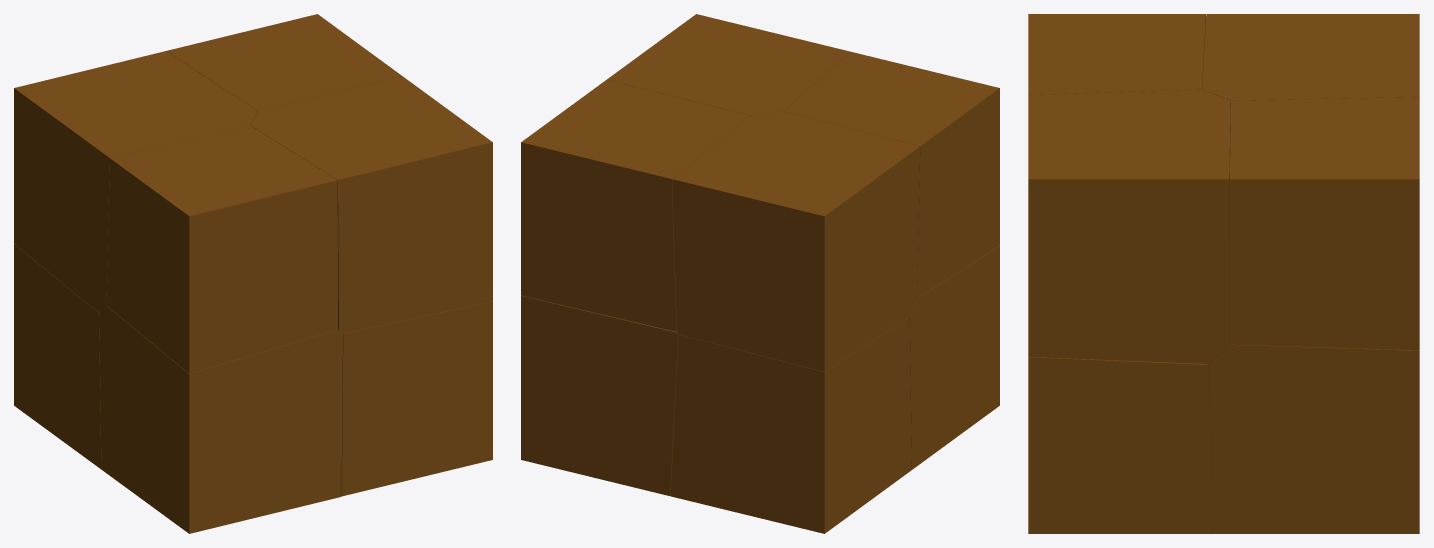
File: PrototypeCrate_pieces.glb
3 views of the same model, side by side, from view 1: azimuth 30°, elevation 25°; view 2: azimuth 150°, elevation 25°; view 3: azimuth 270°, elevation 25° (orthographic). The views are drawn at different scales.
Parts seen in each view (by area): view 1: crate_cell.001, crate_cell, crate_cell.005, crate_cell.003, crate_cell.004, crate_cell.002, crate_cell.007; view 2: crate_cell.003, crate_cell.002, crate_cell.007, crate_cell.006, crate_cell.001, crate_cell, crate_cell.005; view 3: crate_cell.005, crate_cell.007, crate_cell.006, crate_cell.004, crate_cell.003, crate_cell.001.
Part boxes in pixels (left/top/right/bottom): crate_cell.001: left=106, top=125, right=337, bottom=373; crate_cell: left=99, top=306, right=342, bottom=533; crate_cell.005: left=251, top=76, right=492, bottom=333; crate_cell.003: left=14, top=51, right=257, bottom=312; crate_cell.004: left=341, top=301, right=492, bottom=496; crate_cell.002: left=14, top=244, right=101, bottom=468; crate_cell.007: left=167, top=14, right=402, bottom=111; crate_cell.003: left=672, top=111, right=920, bottom=371; crate_cell.002: left=670, top=317, right=911, bottom=533; crate_cell.007: left=521, top=80, right=749, bottom=331; crate_cell.006: left=521, top=295, right=678, bottom=495; crate_cell.001: left=783, top=52, right=999, bottom=298; crate_cell: left=909, top=246, right=999, bottom=469; crate_cell.005: left=606, top=14, right=850, bottom=115; crate_cell.005: left=1028, top=90, right=1230, bottom=363; crate_cell.007: left=1230, top=97, right=1419, bottom=350; crate_cell.006: left=1208, top=330, right=1419, bottom=533; crate_cell.004: left=1028, top=357, right=1214, bottom=533; crate_cell.003: left=1202, top=14, right=1419, bottom=107; crate_cell.001: left=1028, top=14, right=1205, bottom=94.
Size of the model in its own units: 2 by 2 by 2.
